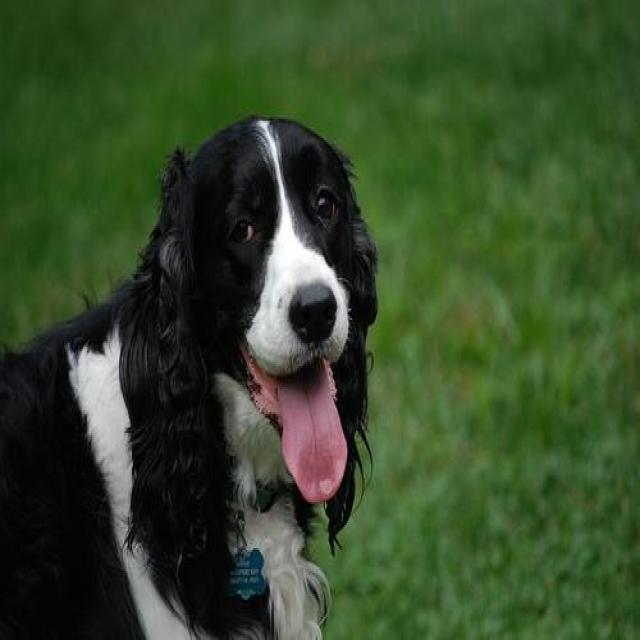happy: (0, 72, 401, 640)
